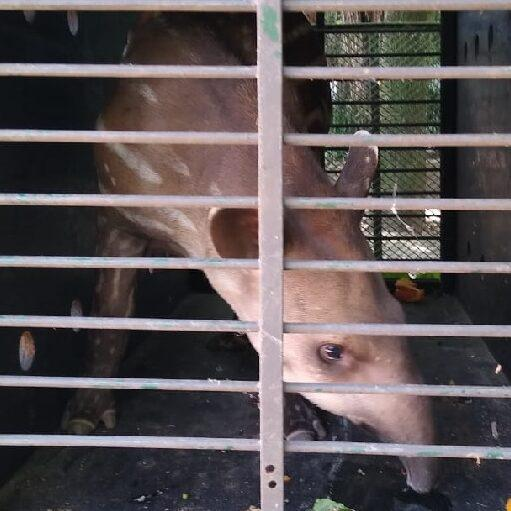Anta: (59, 13, 452, 501)
